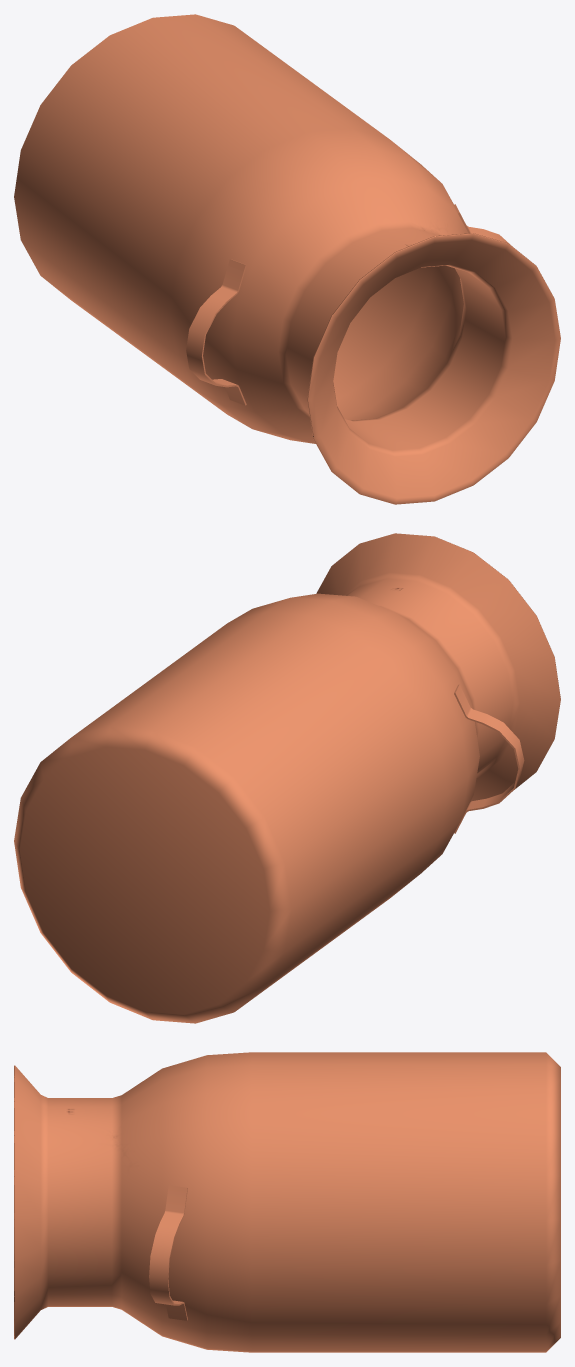
The picture shows the model from 3 angles, top to bottom: view 1: azimuth 30°, elevation 25°; view 2: azimuth 150°, elevation 25°; view 3: azimuth 270°, elevation 25°; orthographic projection. The views are drawn at different scales.
Size of the model in its own units: 0.6657 by 0.5533 by 1.
